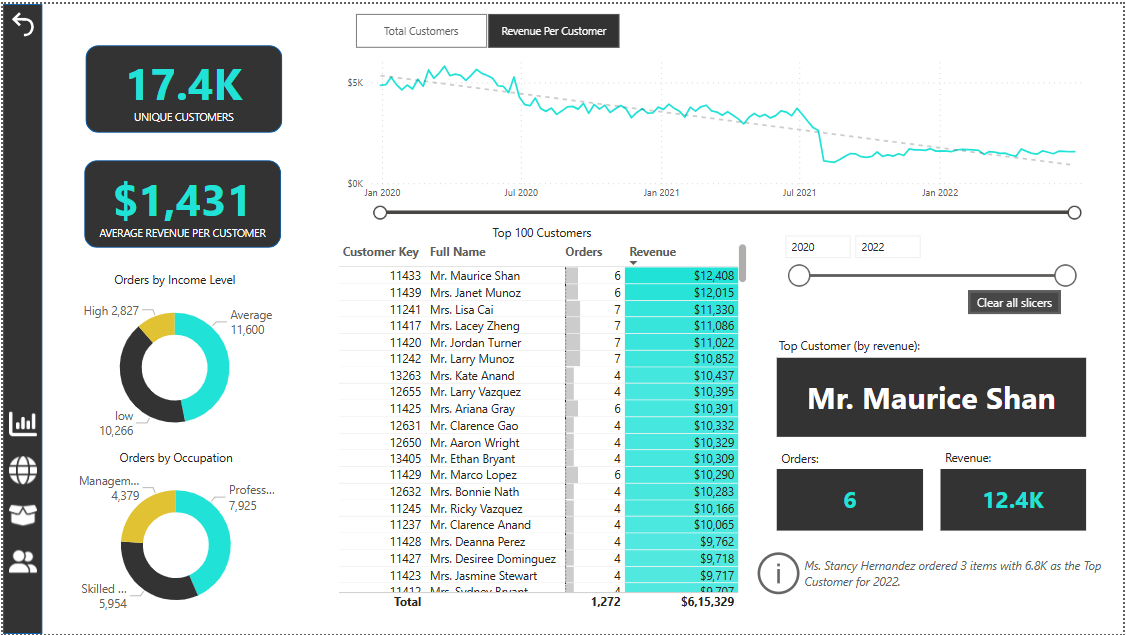

What the dashboard file says about the page in this screenshot:
{"tool":"powerbi","page":{"name":"Customer detail","canvas":[1280,720],"ordinal":3},"visuals":[{"type":"shape","box":[0,0,45,720],"z":0},{"type":"shape","box":[94.1,46.4,225,100],"z":1000},{"type":"shape","box":[92.9,178.9,225,100],"z":2000},{"type":"card","fields":{"Values":["Measure Table.Total Customers"]},"box":[77.9,21.4,256.2,150],"z":3000},{"type":"card","fields":{"Values":["Measure Table.Average Revenue Per Customer"]},"box":[76.4,154.2,256.2,150],"z":4000},{"type":"lineChart","title":"Total Customers","fields":{"Y":["Measure Table.Average Revenue Per Customer"],"Category":["Calendar Lookup.Year","Calendar Lookup.Start of Month","Calendar Lookup.week s","Calendar Lookup.Date"]},"box":[388.8,52.5,862.5,196.2],"z":5000},{"type":"donutChart","title":"Orders by Income Level","fields":{"Category":["Customer Lookup.Income Level"],"Y":["Measure Table.Total Orders"]},"box":[76.2,306.2,241.2,202.5],"z":6000},{"type":"donutChart","title":"Orders by Occupation","fields":{"Y":["Measure Table.Total Orders"],"Category":["Customer Lookup.Occupation"]},"box":[77.5,508.8,241.2,202.5],"z":7000},{"type":"tableEx","title":"Top 100 Customers","fields":{"Values":["Customer Lookup.CustomerKey","Customer Lookup.Full Name","Measure Table.Total Orders","Measure Table.Total Revenue"]},"box":[377.5,251.2,477.5,445],"z":8000},{"type":"card","fields":{"Values":["Measure Table.Full name (Customer Details)"]},"box":[883.8,404.5,353.8,90],"z":9000},{"type":"textbox","box":[881.2,376.2,180,36.2],"z":10000},{"type":"textbox","box":[883.8,505.8,80,36.2],"z":11000},{"type":"card","fields":{"Values":["Measure Table.Total Orders (Customer Details)"]},"box":[883.8,531.2,167.5,70],"z":12000},{"type":"card","fields":{"Values":["Measure Table.Total Revenue (Customer Details)"]},"box":[1071.2,531.2,166.2,70],"z":13000},{"type":"textbox","box":[1071.2,505,80,36.2],"z":14000},{"type":"slicer","fields":{"Values":["Calendar Lookup.Year"]},"box":[881.2,253.8,353.8,73.8],"z":15000},{"type":"actionButton","box":[1102.5,327.5,106.2,27.5],"z":16000},{"type":"actionButton","box":[3.8,3.8,61.2,37.5],"z":17000},{"type":"actionButton","box":[855,620,413.8,61.2],"z":18000},{"type":"actionButton","box":[2.8,459.9,45,40],"z":19000},{"type":"actionButton","box":[2.8,564.9,45,40],"z":20000},{"type":"actionButton","box":[2.8,512.4,45,40],"z":21000},{"type":"actionButton","box":[2.8,617.4,45,40],"z":22000},{"type":"slicer","fields":{"Values":["Customer Metric Selection.Customer Metric Selection"]},"box":[377.5,3.8,351.2,52.5],"z":23000}]}

Visuals, with their boxes in screenshot pixels (x1, y1, x2, y2), scaled from the page's 1280x720 canvas onto the 1127x635 screenshot:
shape: <box>0,0,40,634</box>
shape: <box>83,41,281,129</box>
shape: <box>82,158,280,246</box>
card - Measure Table.Total Customers: <box>69,19,294,151</box>
card - Measure Table.Average Revenue Per Customer: <box>67,136,293,268</box>
"Total Customers" lineChart: <box>342,46,1102,219</box>
"Orders by Income Level" donutChart: <box>67,270,279,449</box>
"Orders by Occupation" donutChart: <box>68,449,281,627</box>
"Top 100 Customers" tableEx: <box>332,222,753,614</box>
card - Measure Table.Full name (Customer Details): <box>778,357,1090,436</box>
textbox: <box>776,332,934,364</box>
textbox: <box>778,446,849,478</box>
card - Measure Table.Total Orders (Customer Details): <box>778,468,926,530</box>
card - Measure Table.Total Revenue (Customer Details): <box>943,468,1089,530</box>
textbox: <box>943,445,1014,477</box>
slicer - Calendar Lookup.Year: <box>776,224,1087,289</box>
actionButton: <box>971,289,1064,313</box>
actionButton: <box>3,3,57,36</box>
actionButton: <box>753,547,1117,601</box>
actionButton: <box>2,406,42,441</box>
actionButton: <box>2,498,42,533</box>
actionButton: <box>2,452,42,487</box>
actionButton: <box>2,545,42,580</box>
slicer - Customer Metric Selection.Customer Metric Selection: <box>332,3,642,50</box>
